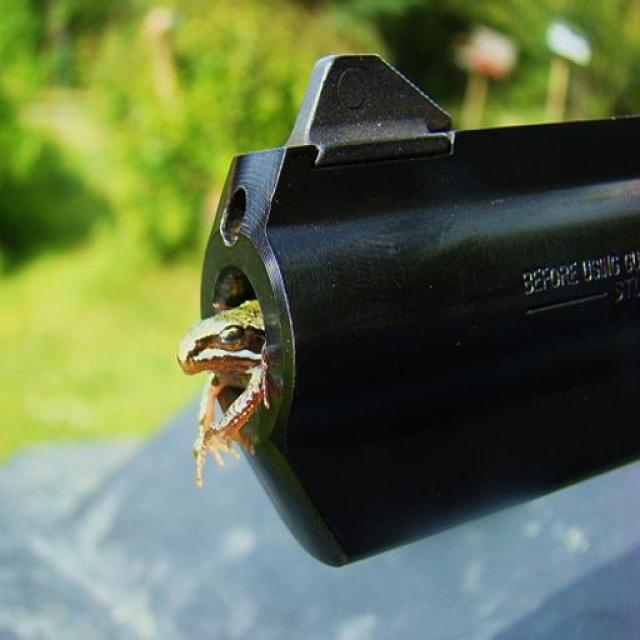pistol: (190, 39, 637, 568)
